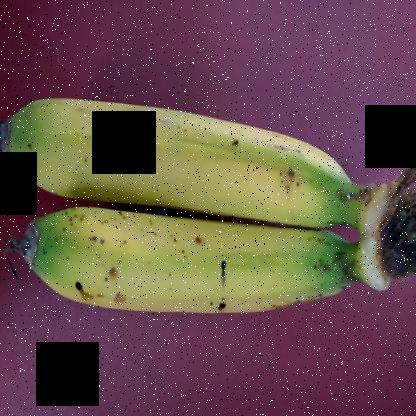freshripe: (7, 80, 359, 230)
ripe: (24, 195, 362, 336)
